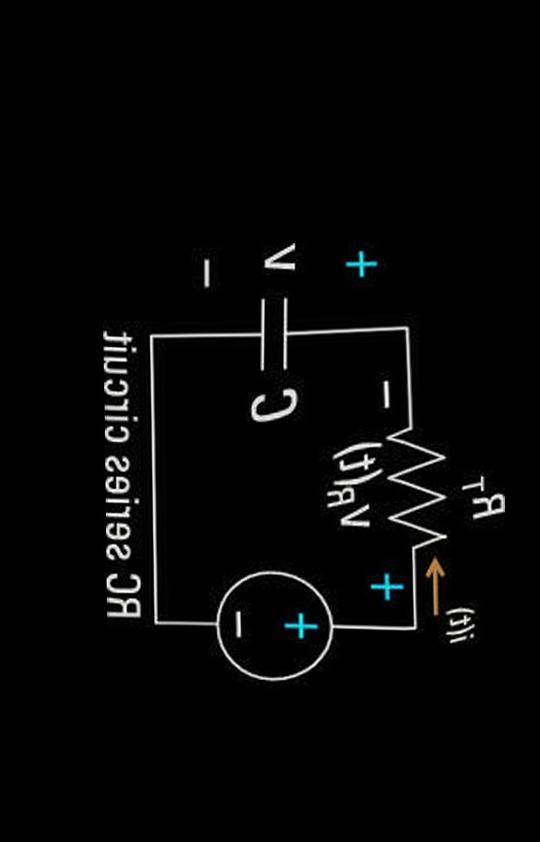Battery: (180, 551, 351, 711)
